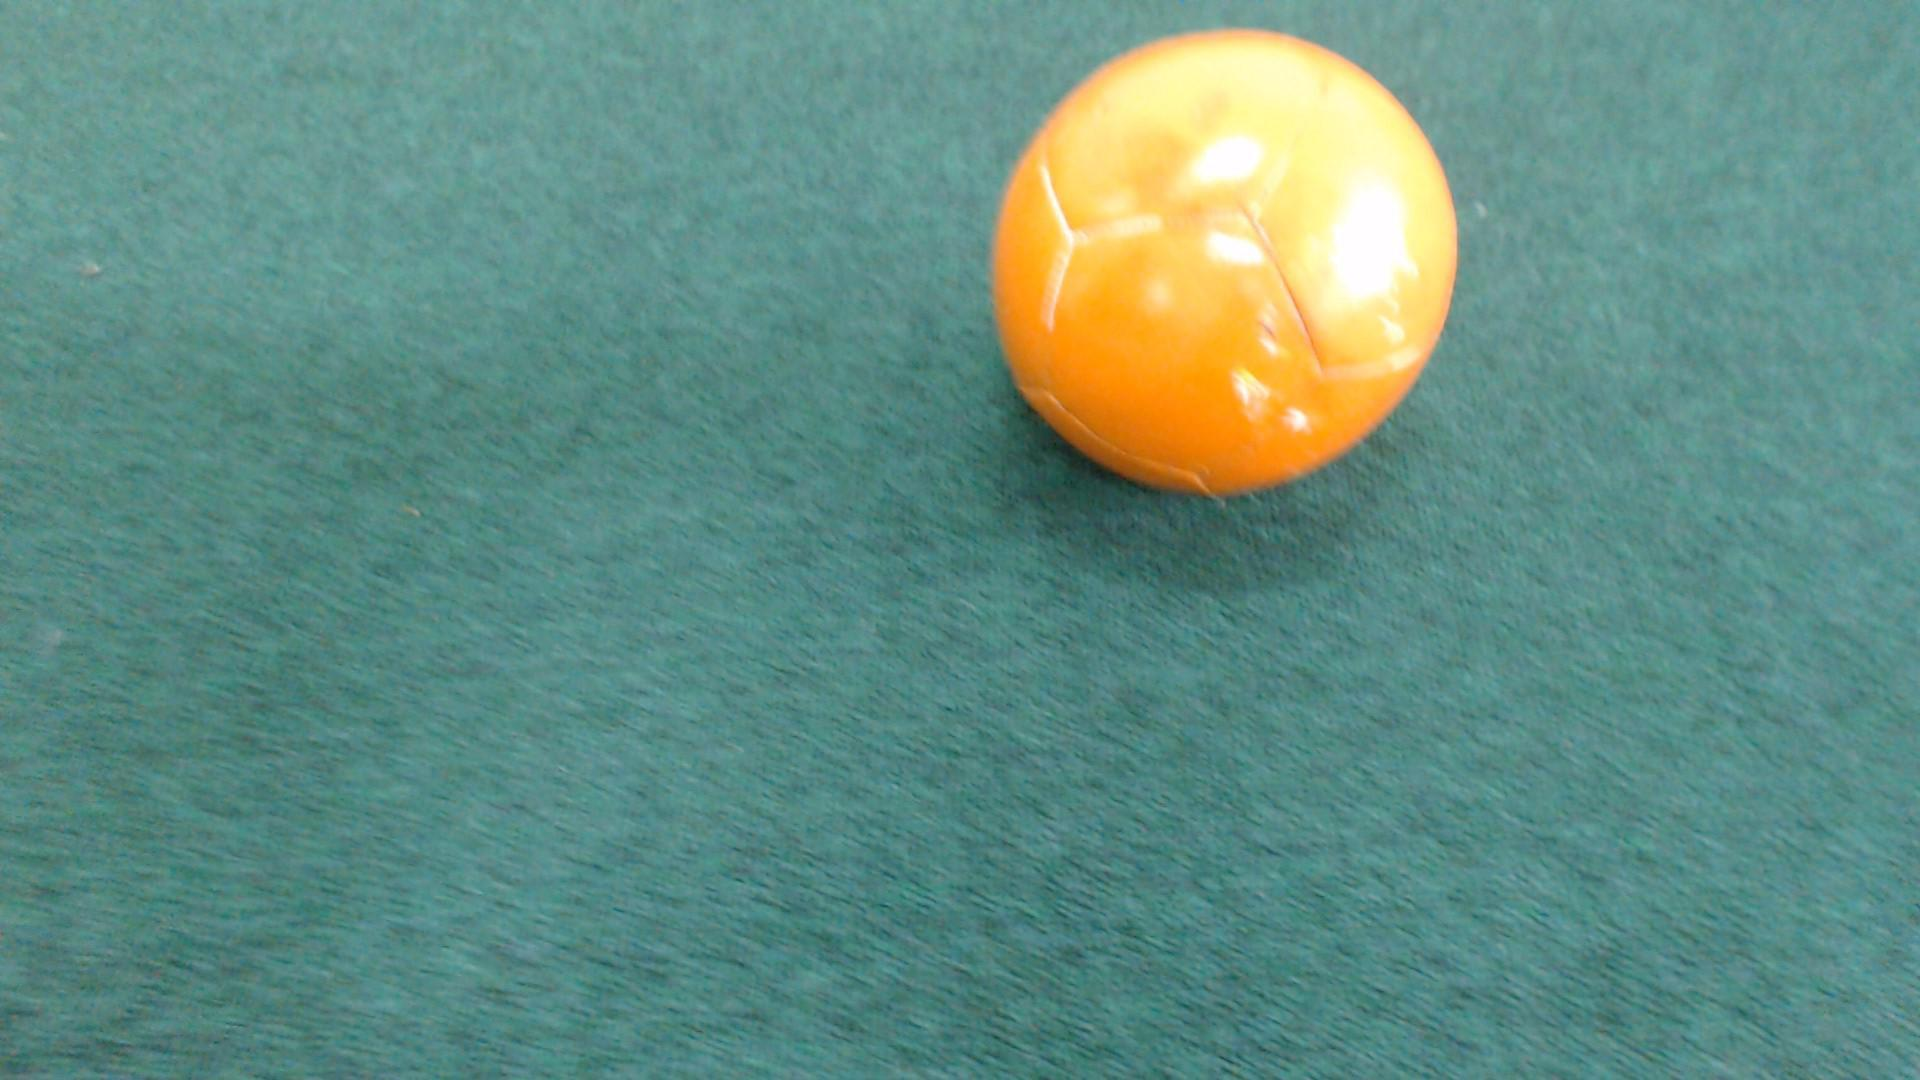bola: (935, 3, 1494, 545)
